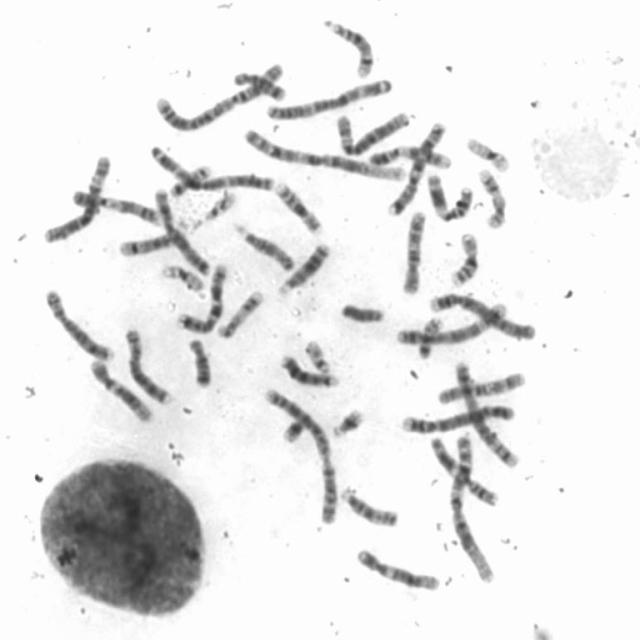A1: (243, 127, 407, 183), (447, 434, 498, 585)
A2: (259, 386, 341, 529), (156, 62, 286, 132)
A3: (146, 142, 275, 193), (267, 78, 393, 120)
B4: (429, 291, 537, 341), (401, 402, 516, 434)
B5: (451, 360, 520, 470), (395, 298, 509, 348)
C10: (436, 370, 526, 405), (401, 210, 429, 296)
C11: (428, 434, 498, 507), (427, 173, 473, 224)
C12: (88, 360, 154, 426), (353, 548, 442, 593)
C6: (44, 156, 114, 246), (335, 108, 410, 156)
C7: (386, 121, 452, 218), (176, 263, 232, 334)
C8: (41, 286, 116, 362), (120, 326, 175, 406)
C9: (68, 188, 162, 226), (368, 145, 452, 170)
D13: (280, 242, 332, 294), (278, 350, 338, 388)
D14: (320, 20, 376, 80), (119, 219, 192, 258)
D15: (230, 220, 293, 270), (341, 484, 402, 529)
E16: (274, 182, 324, 235), (450, 231, 482, 288)
E17: (216, 292, 268, 338), (475, 168, 507, 228)
E18: (180, 334, 218, 394), (232, 69, 286, 104)
F19: (466, 138, 511, 174), (162, 264, 204, 294)
F20: (168, 163, 212, 199), (416, 316, 445, 359)
G21: (332, 406, 366, 440), (281, 413, 311, 446)
G22: (205, 190, 238, 223), (303, 337, 329, 375)
X: (152, 189, 211, 278)
Y: (341, 300, 386, 326)
